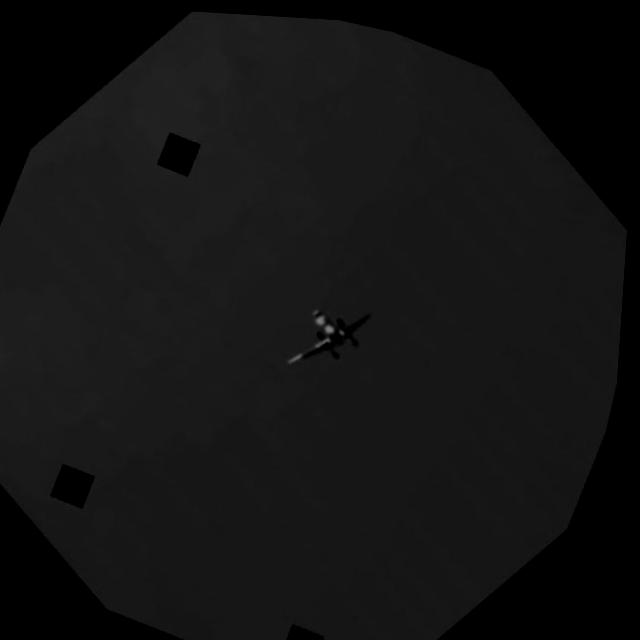aeroplane: (271, 275, 394, 396)
